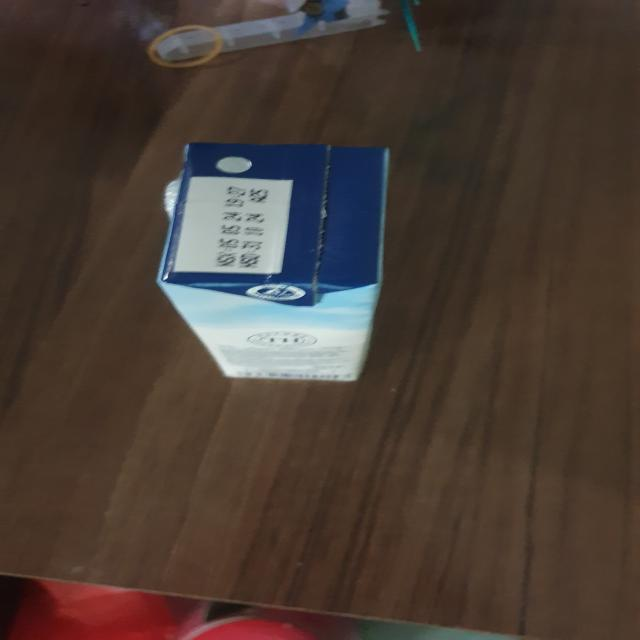TH: (151, 142, 405, 383)
